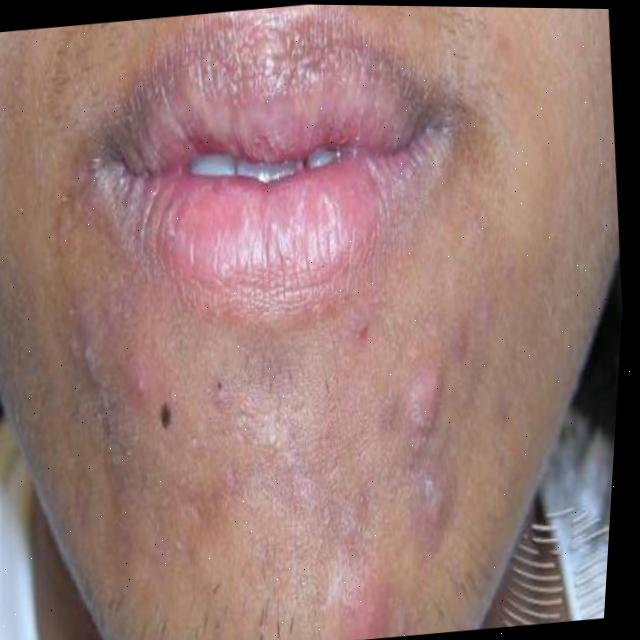Acne: (196, 305, 548, 632)
